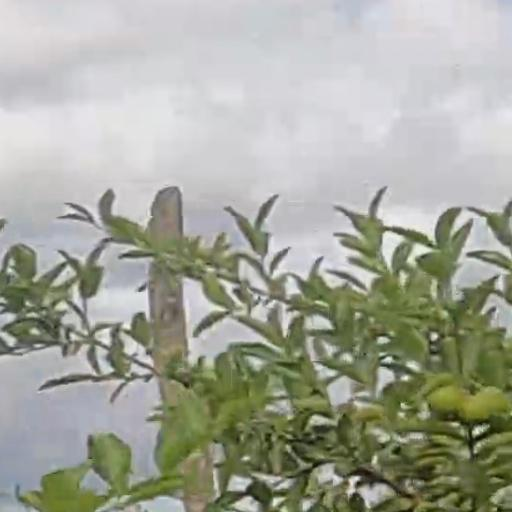acerola_verde: (428, 384, 460, 415), (463, 398, 486, 423), (482, 391, 507, 413)
